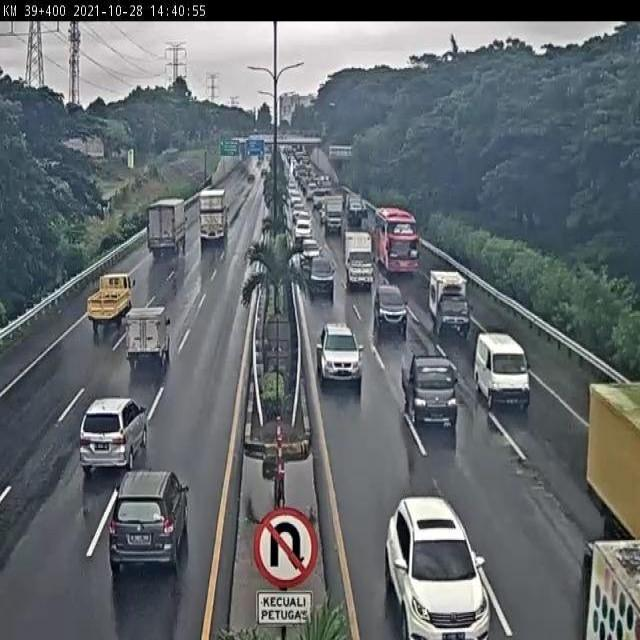big truck: (199, 189, 229, 243)
bus-l-: (375, 207, 419, 277)
car: (384, 496, 492, 640), (108, 468, 189, 577), (80, 394, 149, 466), (474, 332, 532, 411), (401, 353, 460, 423), (317, 321, 363, 383), (371, 284, 407, 331), (307, 254, 336, 294)
small truck: (87, 272, 134, 335), (124, 304, 171, 365)
truck-m-: (144, 199, 187, 257), (342, 228, 374, 288)
truck-s-: (428, 268, 471, 336)
